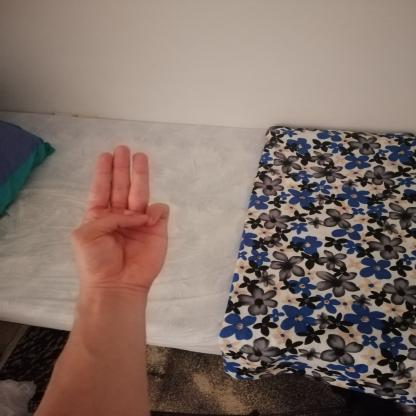THA: (51, 138, 186, 302)
